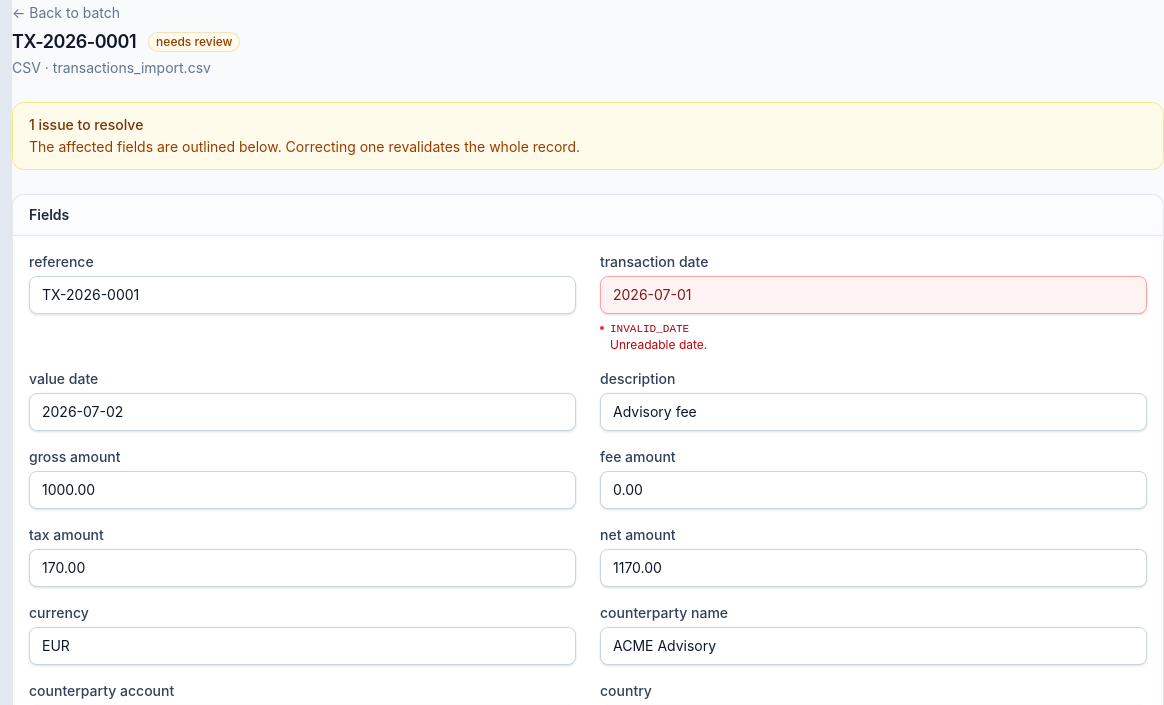
Test case: with unsaved edits on screen › refuses to re-check, because it would read the stored value
Replace the text in the field labelled "value date" with "2026-07-17". click: (302, 412)
box: [29,393,576,431]
(page scrolled)
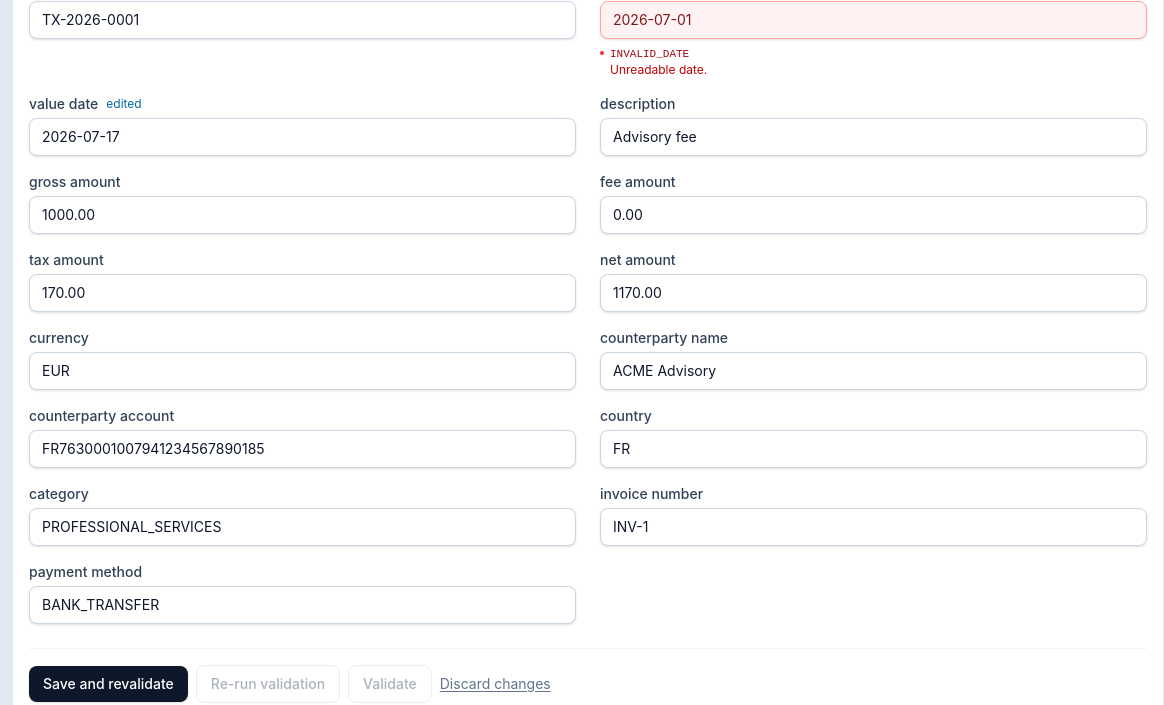
Expected: the button "Re-run validation" is disabled, [196,665,340,703]
